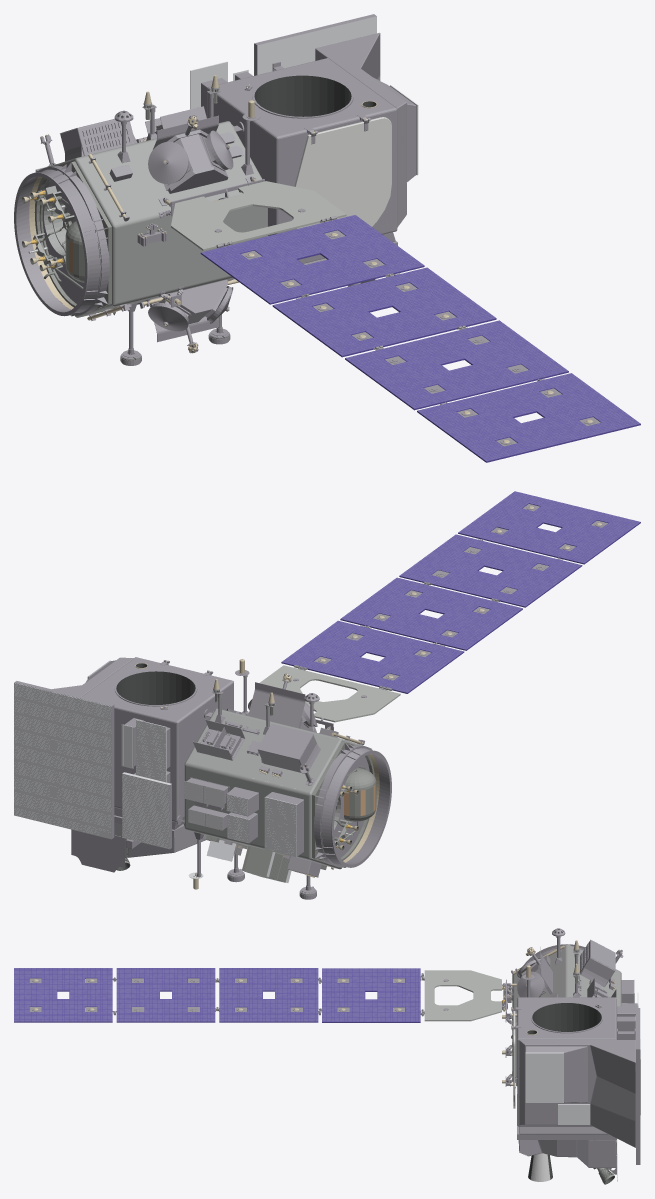
The model's file is icesat2.glb.
3 renders of one model, top to bottom at view 1: azimuth 30°, elevation 25°; view 2: azimuth 150°, elevation 25°; view 3: azimuth 270°, elevation 25°, orthographic. The views are drawn at different scales.
Parts seen in each view (by area): view 1: MainBus; view 2: MainBus; view 3: MainBus.
Part boxes in pixels (x1,y1,x2,y2): MainBus: (14, 14, 640, 462); MainBus: (14, 491, 640, 899); MainBus: (14, 928, 640, 1184).
Bounding box in the file's own units: 3.74 × 2.38 × 7.56.
Materials: 4 (4 with a texture image).
